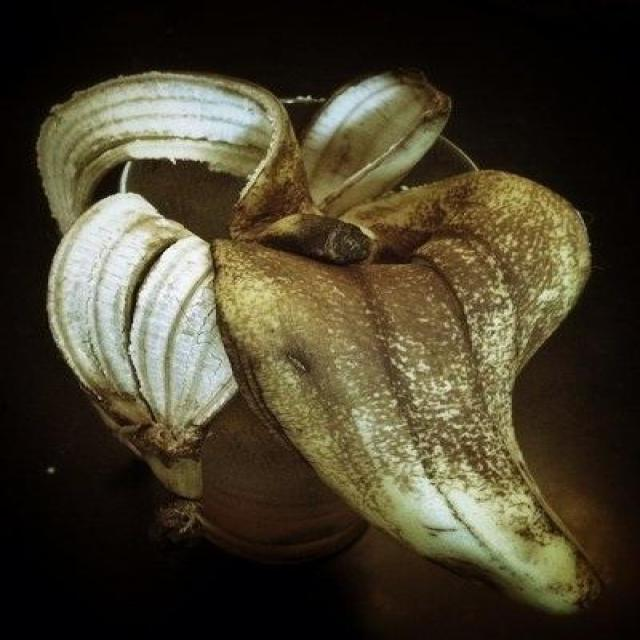Wet Waste: (29, 67, 611, 619)
